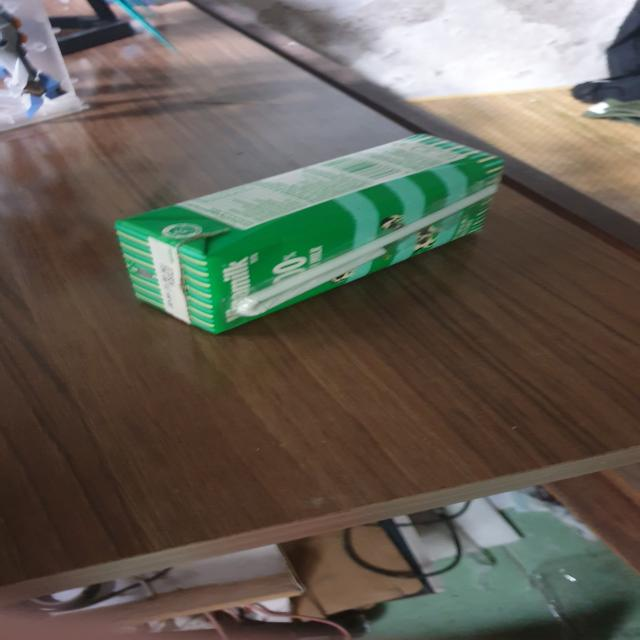Vina: (111, 131, 511, 339)
